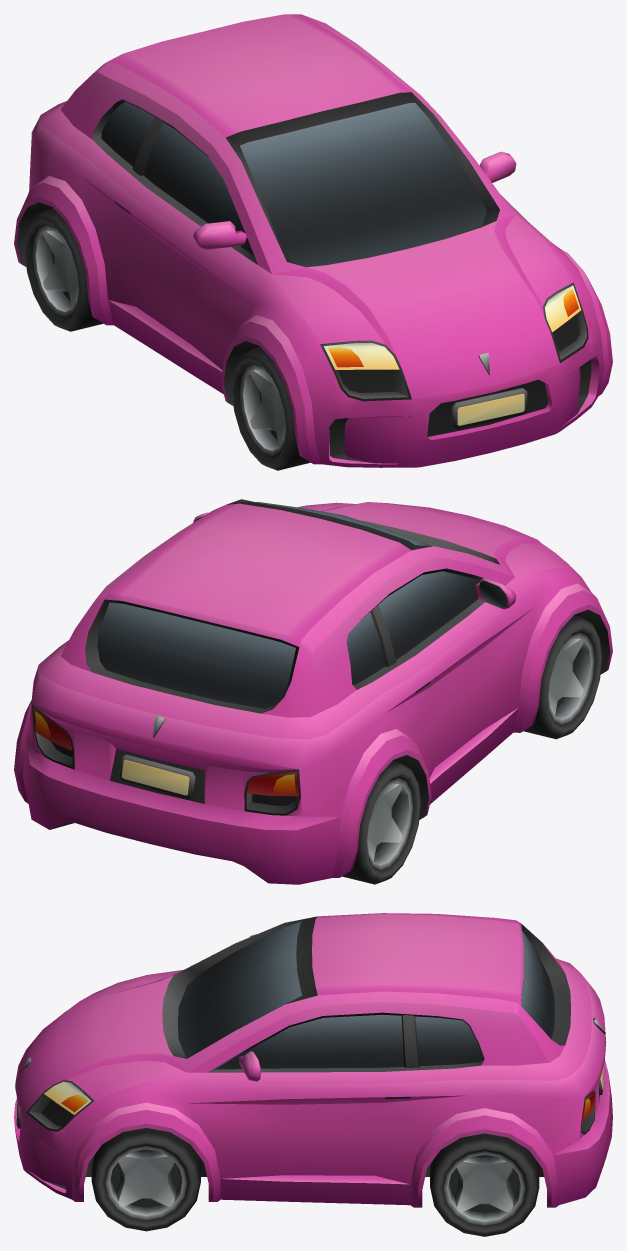
The model's file is Car_7D.fbx.
3 renders of one model, top to bottom at view 1: azimuth 30°, elevation 25°; view 2: azimuth 150°, elevation 25°; view 3: azimuth 270°, elevation 25°, orthographic. The views are drawn at different scales.
Parts seen in each view (by area): view 1: Car_7D, Wheel_7D_R.R, Wheel_7D_F.R; view 2: Car_7D, Wheel_7D_F.R, Wheel_7D_R.R; view 3: Car_7D, Wheel_7D_R.L, Wheel_7D_F.L.
Part boxes in pixels (x1,y1,x2,y2): Car_7D: (14, 14, 612, 467); Wheel_7D_R.R: (24, 207, 103, 331); Wheel_7D_F.R: (232, 346, 310, 470); Car_7D: (14, 499, 612, 884); Wheel_7D_F.R: (523, 615, 602, 739); Wheel_7D_R.R: (342, 760, 420, 884); Car_7D: (14, 913, 612, 1207); Wheel_7D_R.L: (430, 1133, 539, 1236); Wheel_7D_F.L: (91, 1128, 200, 1231).
Size of the model in its own units: 2.63 by 1.87 by 4.6.
